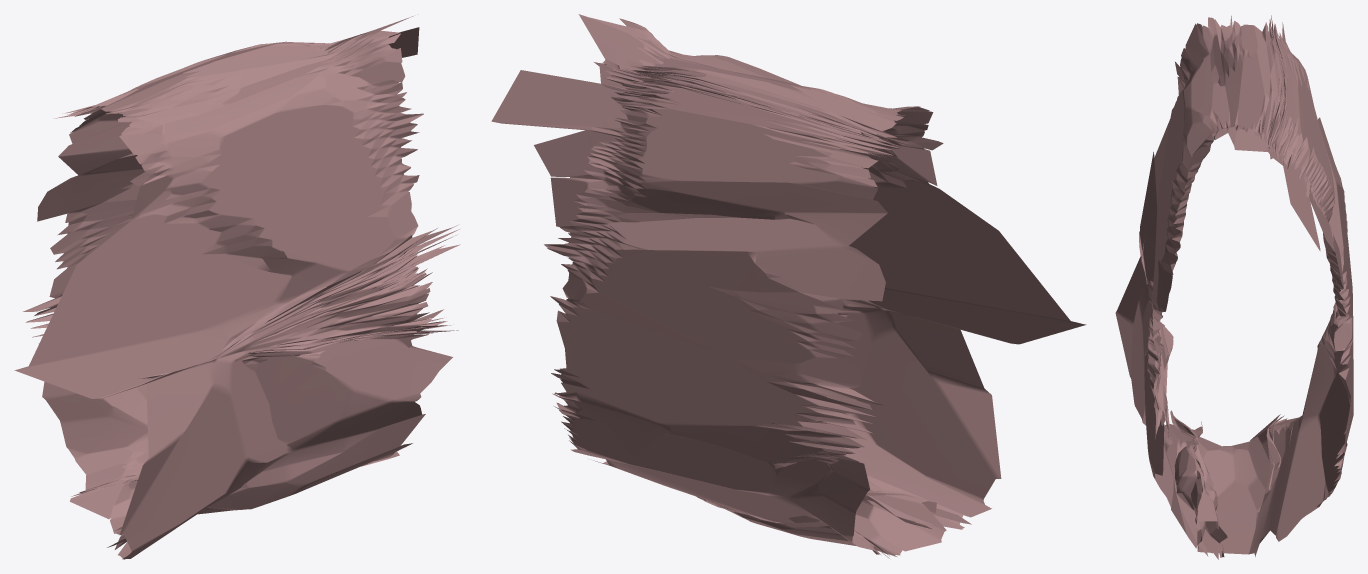
File: mini_canyon.fbx_Cube__12__004LODs.fbx
3 views of the same model, side by side, from view 1: azimuth 30°, elevation 25°; view 2: azimuth 150°, elevation 25°; view 3: azimuth 270°, elevation 25° (orthographic). The views are drawn at different scales.
Parts seen in each view (by area): view 1: Cube (12).004_LOD0; view 2: Cube (12).004_LOD0; view 3: Cube (12).004_LOD0.
Boxes of the visible parts, x1,y1,x2,y2 form: Cube (12).004_LOD0: [14, 16, 460, 559]; Cube (12).004_LOD0: [491, 14, 1086, 558]; Cube (12).004_LOD0: [1115, 15, 1353, 559].
Size of what is drawn, in the model's own units: 1806 by 1576 by 762.
